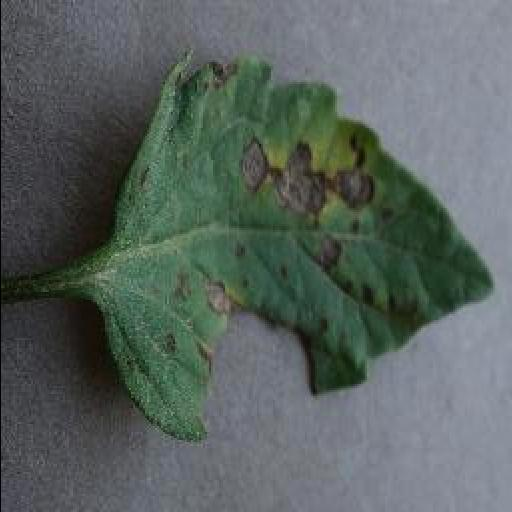disease_tomato: (86, 58, 494, 442)
